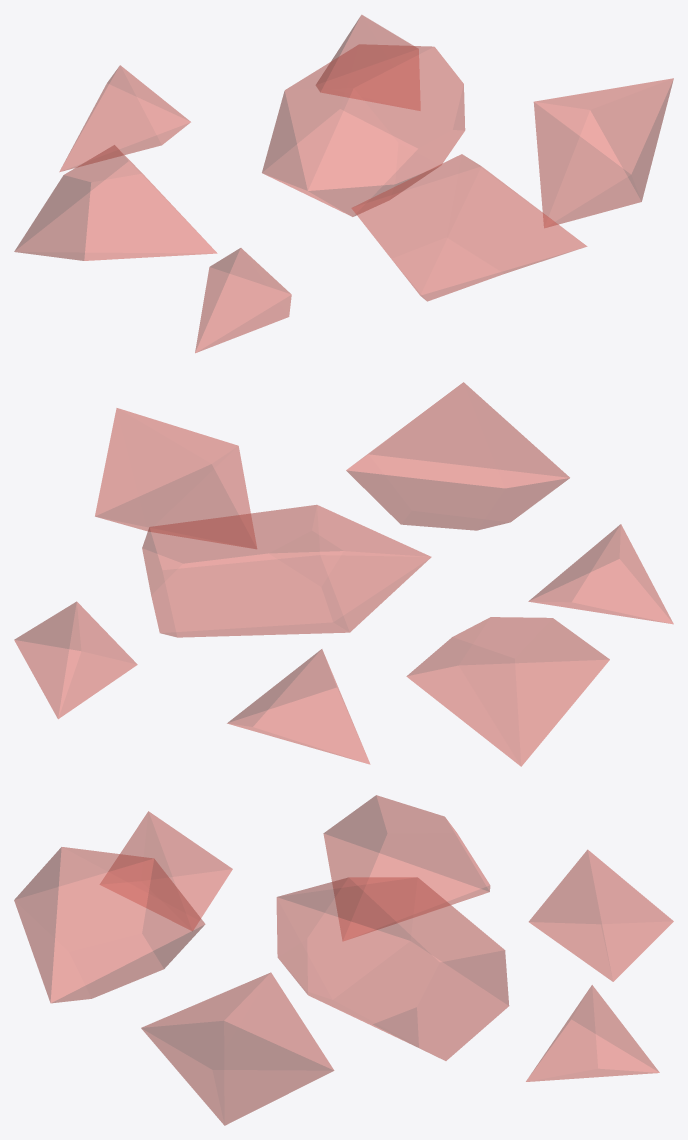
Rendered from SmallCrystals2_Bogdan.fbx.
3 renders of one model, top to bottom at view 1: azimuth 30°, elevation 25°; view 2: azimuth 150°, elevation 25°; view 3: azimuth 270°, elevation 25°, orthographic. The views are drawn at different scales.
Parts seen in each view (by area): view 1: SmallCrystals2; view 2: SmallCrystals2; view 3: SmallCrystals2.
Part boxes in pixels (<box>): SmallCrystals2: <box>14,15,673,352</box>; SmallCrystals2: <box>14,382,673,766</box>; SmallCrystals2: <box>14,795,673,1125</box>.
Bounding box in the file's own units: 60.9 × 18.42 × 61.43.
